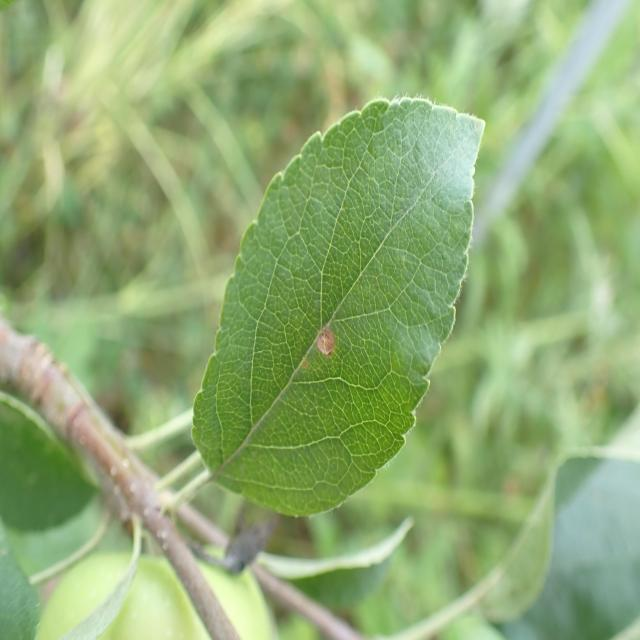Black Rot: (306, 319, 340, 369)
